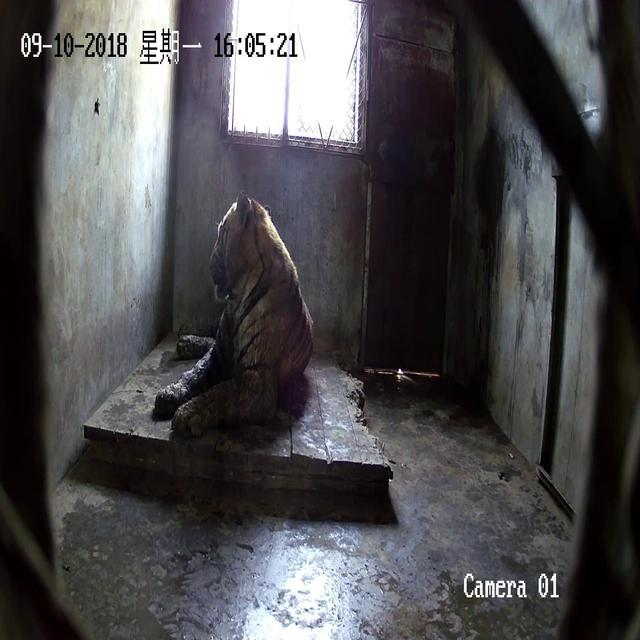tiger: (151, 190, 314, 439)
